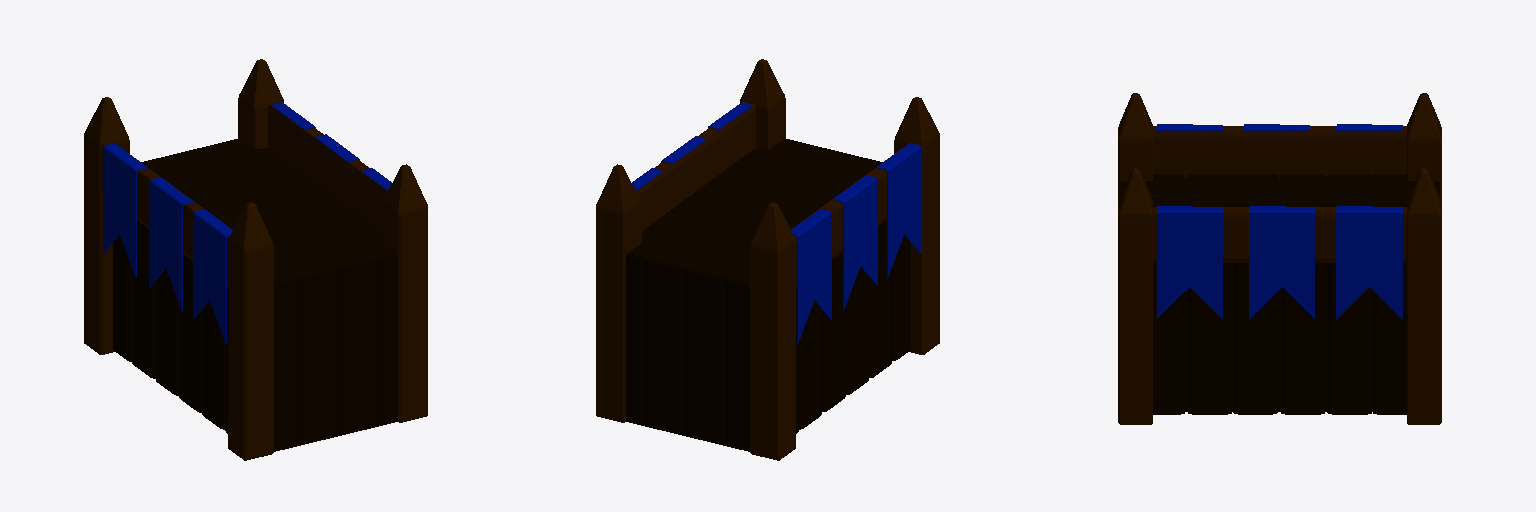
The model's file is Wall_Level1_BlueTeam.obj.
3 views of the same model, side by side, from view 1: azimuth 30°, elevation 25°; view 2: azimuth 150°, elevation 25°; view 3: azimuth 270°, elevation 25° (orthographic).
Parts seen in each view (by area): view 1: Wall_Level1_BlueTeam_Cube; view 2: Wall_Level1_BlueTeam_Cube; view 3: Wall_Level1_BlueTeam_Cube.
Boxes of the visible parts, <box> form: Wall_Level1_BlueTeam_Cube: <box>84,59,427,460</box>; Wall_Level1_BlueTeam_Cube: <box>596,59,939,460</box>; Wall_Level1_BlueTeam_Cube: <box>1118,93,1441,424</box>.
Size of the model in its own units: 9.76 by 12.54 by 14.77.